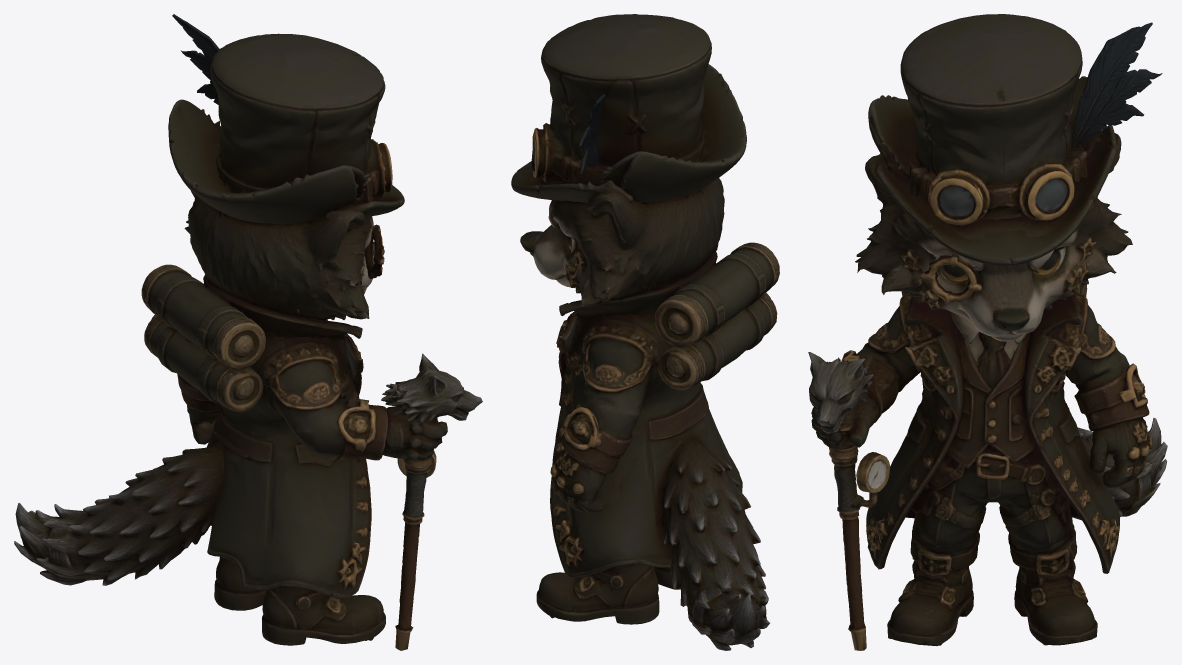
Rendered from urujen.glb.
3 views of the same model, side by side, from view 1: azimuth 30°, elevation 25°; view 2: azimuth 150°, elevation 25°; view 3: azimuth 270°, elevation 25° (orthographic). The views are drawn at different scales.
Visible parts, largest first — view 1: tripo_node_95b280bb-5fa6-4c82-99ae-442db9126522; view 2: tripo_node_95b280bb-5fa6-4c82-99ae-442db9126522; view 3: tripo_node_95b280bb-5fa6-4c82-99ae-442db9126522.
Part boxes in pixels (x1,y1,x2,y2): tripo_node_95b280bb-5fa6-4c82-99ae-442db9126522: [14, 14, 482, 650]; tripo_node_95b280bb-5fa6-4c82-99ae-442db9126522: [511, 14, 779, 650]; tripo_node_95b280bb-5fa6-4c82-99ae-442db9126522: [808, 14, 1167, 650].
Bounding box in the file's own units: 0.5866 × 1 × 0.5551.
1 material, 1 textured.
